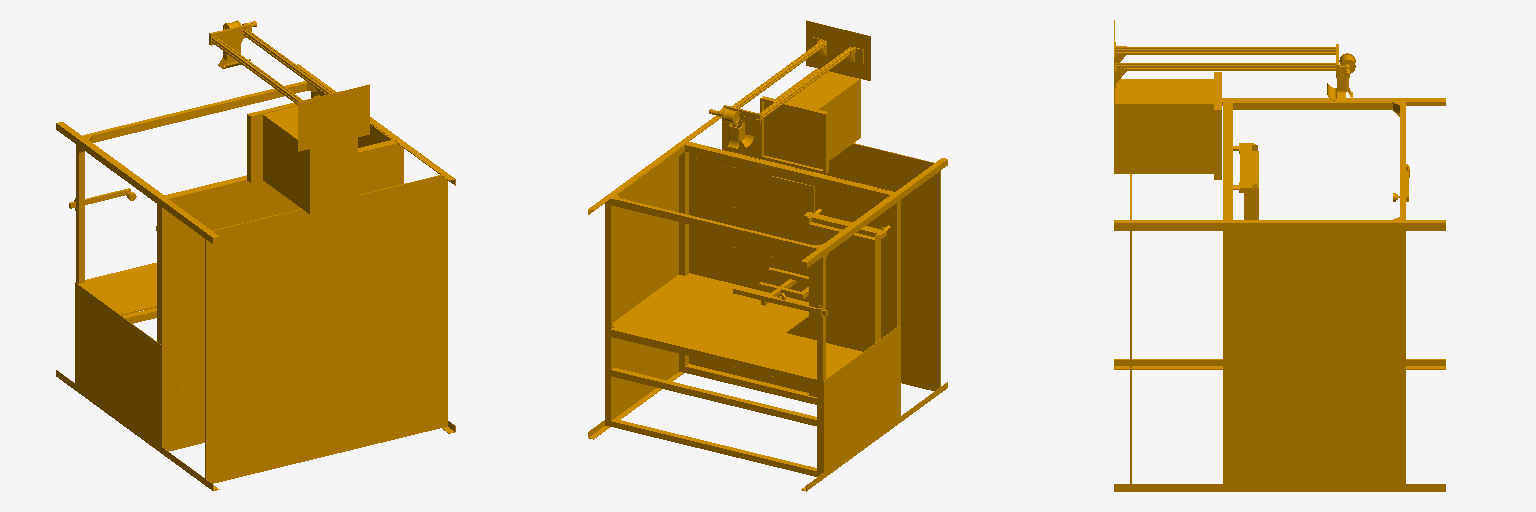
The robot description file, URDF, robot "cage":
<?xml version="1.0"?>

<robot name="cage">
  <link name="base_link">
    <visual>
      <geometry>
         <mesh filename="package://initial_path/meshes/cage.stl" />
      </geometry>
    </visual>
  </link>

</robot>

--- Facts derived from the render (not from the file) ---
The picture shows the robot from 3 angles, left to right: view 1: azimuth 30°, elevation 25°; view 2: azimuth 150°, elevation 25°; view 3: azimuth 270°, elevation 25°; orthographic projection.
Robot: cage — 1 links, 0 joints (none); root link base_link; default pose: all joints at 0.
Visible links, largest first — view 1: base_link; view 2: base_link; view 3: base_link.
Boxes of the visible links, <box> form: base_link: <box>56,20,455,490</box>; base_link: <box>588,20,947,491</box>; base_link: <box>1114,20,1445,491</box>.
Bounding box of the posed robot: 2045 × 2250 × 2918 m (x, y, z).
1 mesh visuals loaded from 1 distinct referenced files (1 binary STL).